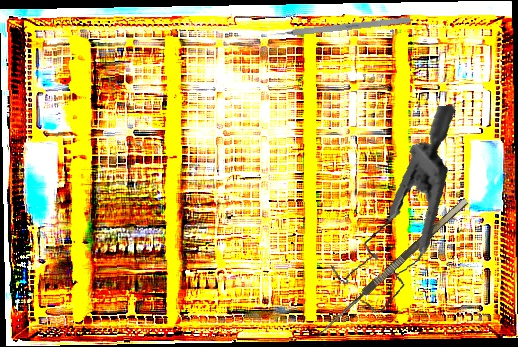Hook Surgical: (313, 197, 477, 347), (264, 16, 411, 39)
Speculum: (313, 104, 478, 318)
